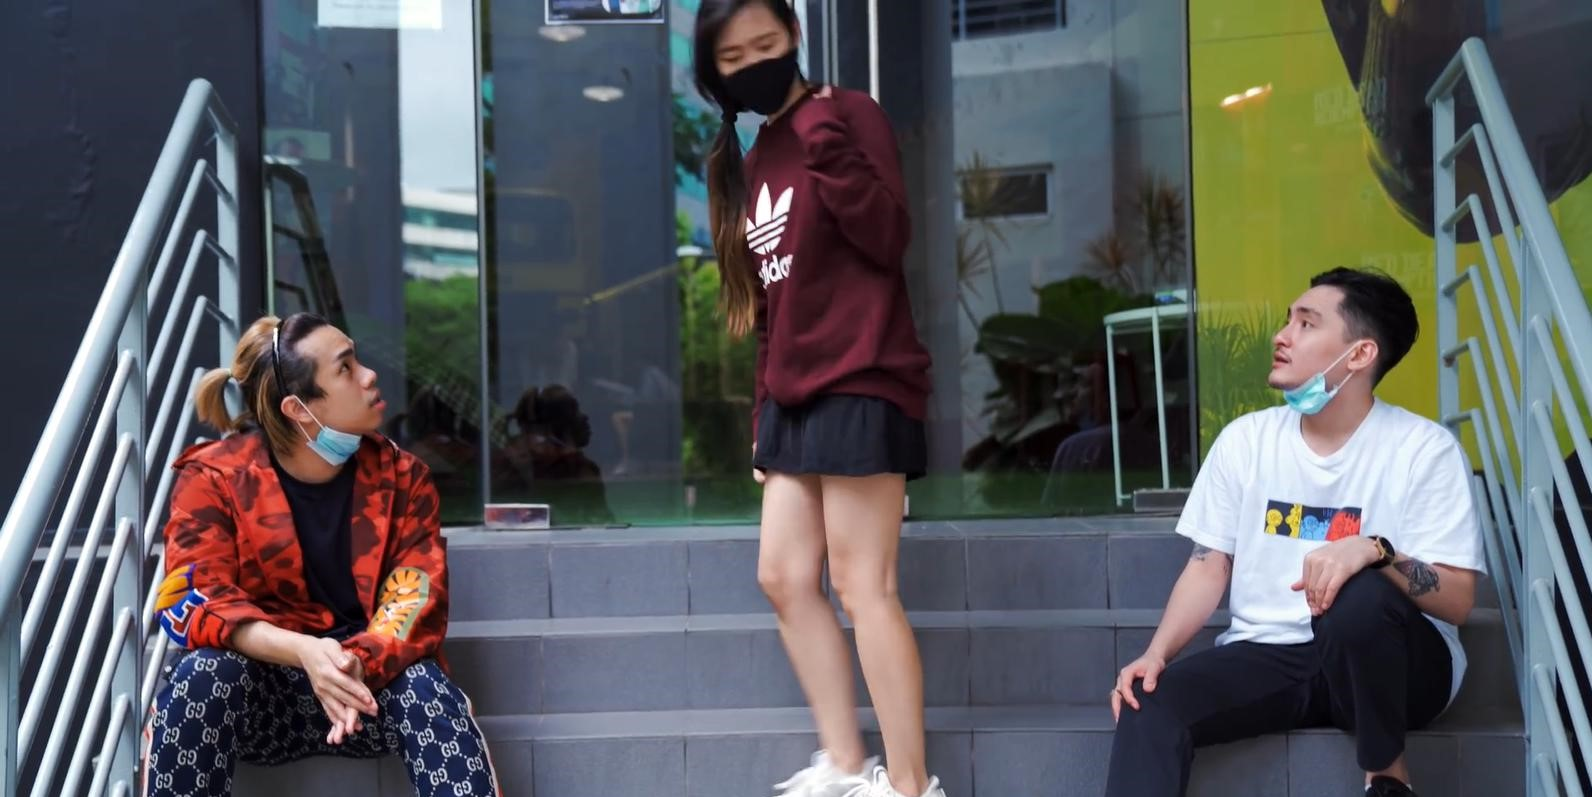with_incorrect_mask: (293, 355, 376, 438), (1280, 310, 1348, 388)
with_mask: (722, 24, 784, 103)
